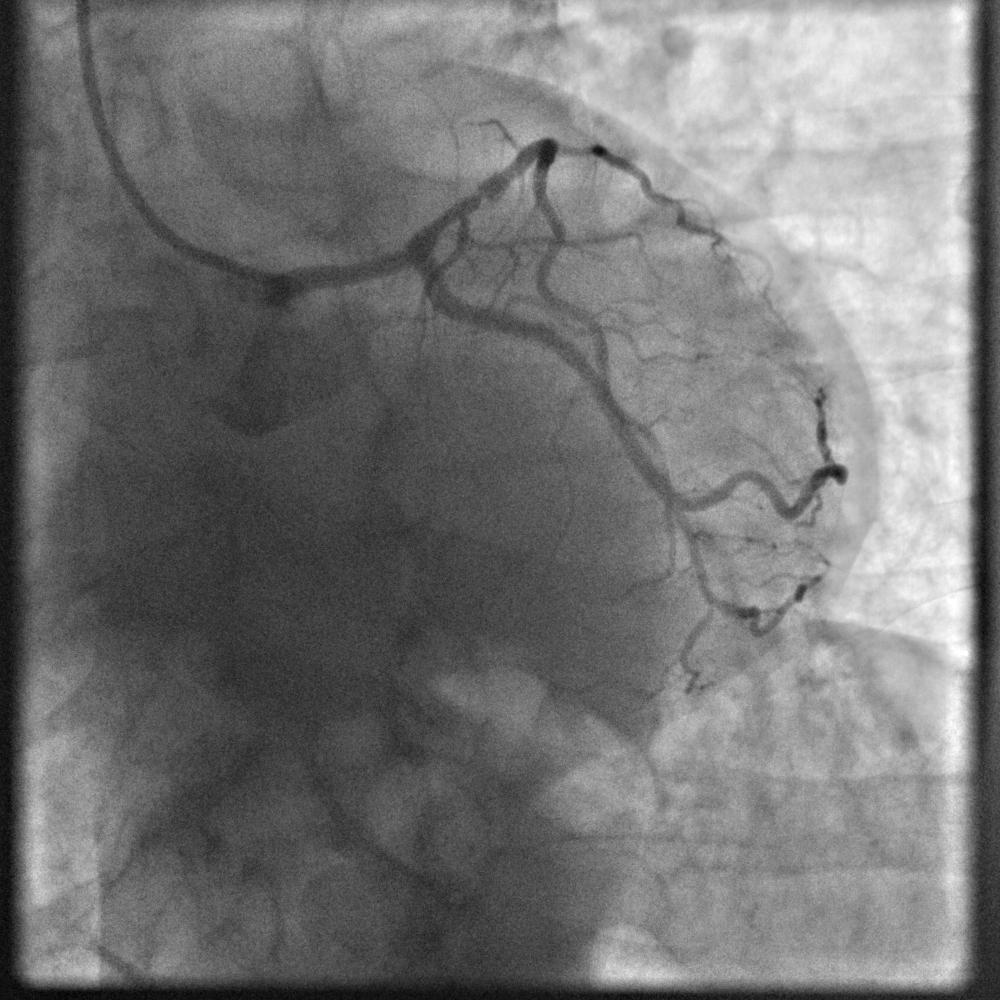Stenosis: (469, 184, 491, 206)
